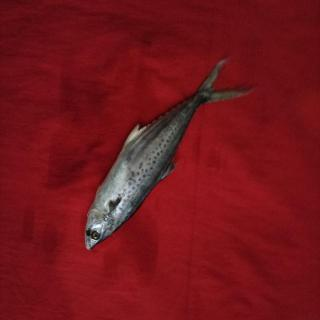Ikan: (74, 58, 242, 262)
